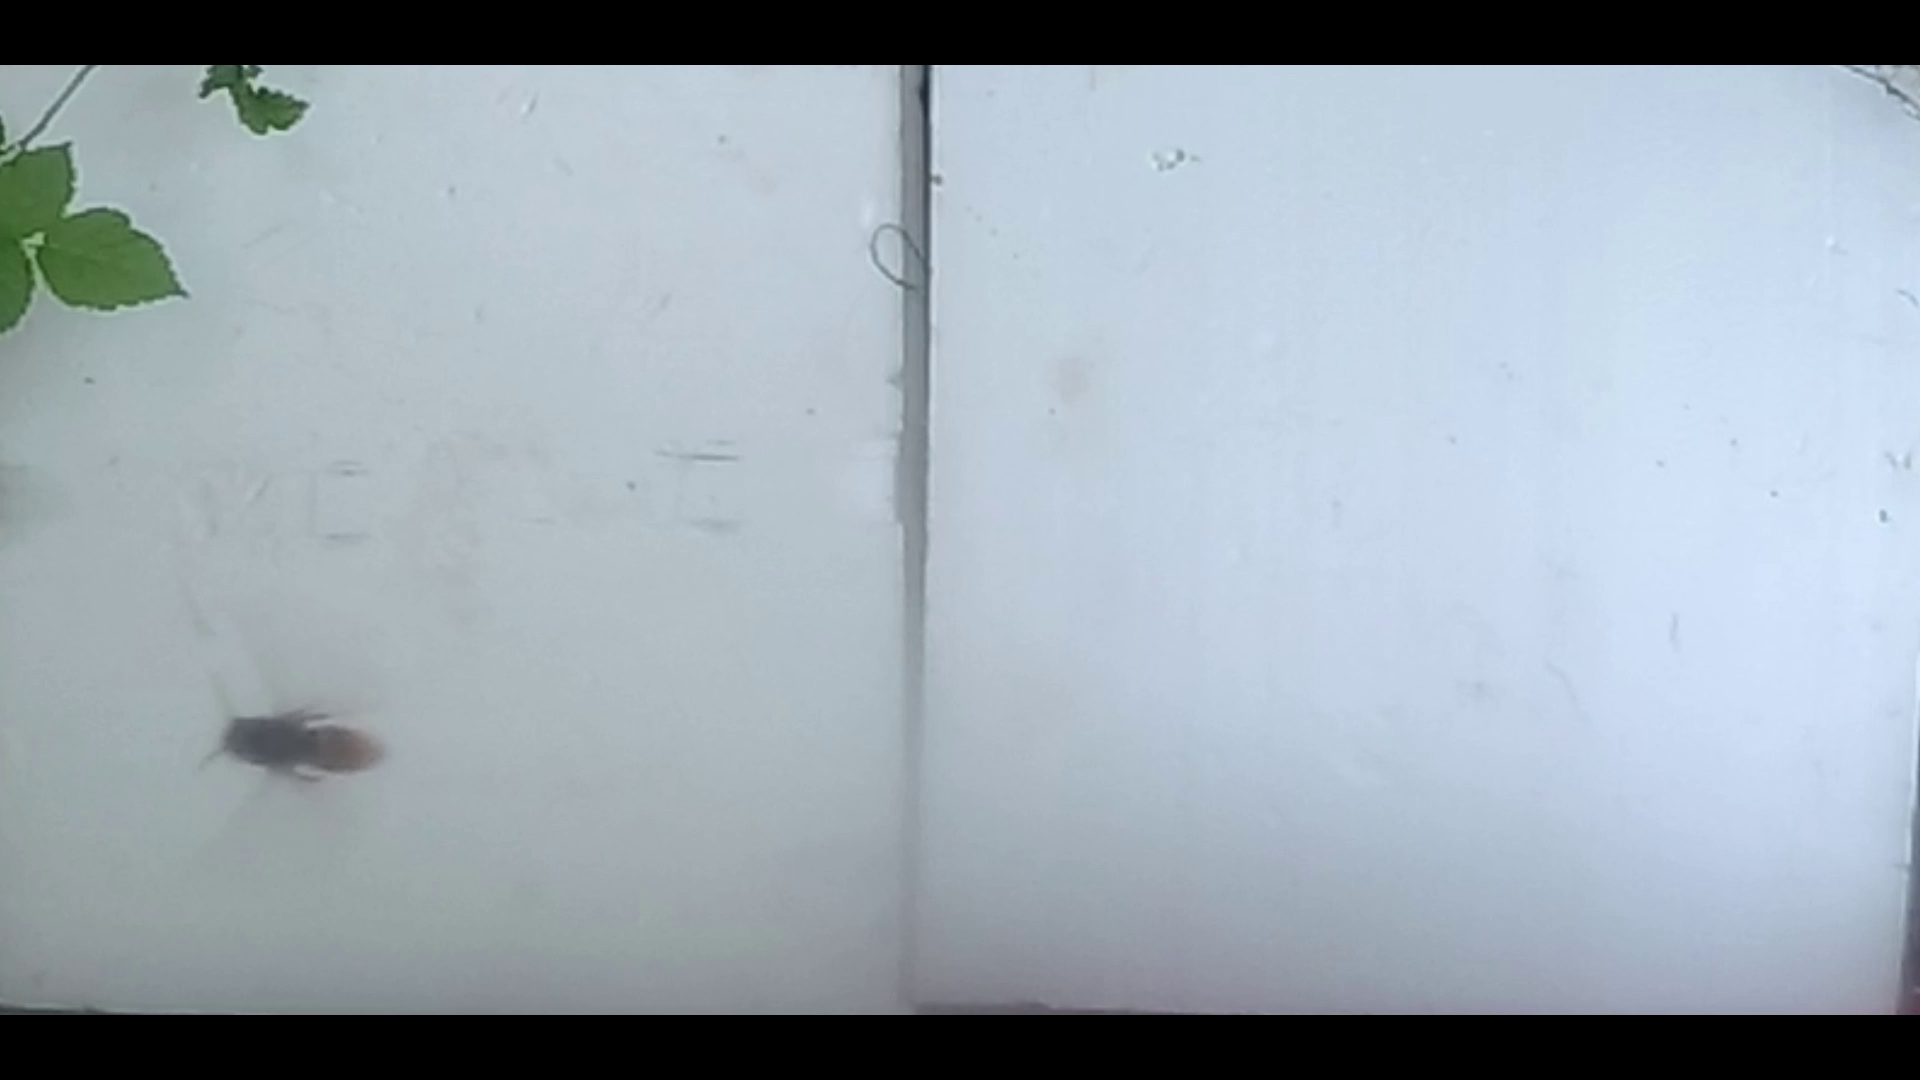Asian_hornets: (179, 673, 401, 825)
